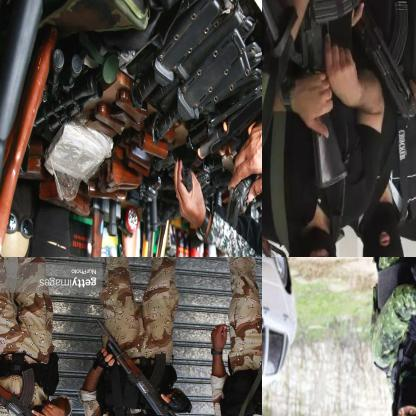knife: (129, 0, 230, 115), (152, 32, 242, 148), (184, 45, 261, 152), (197, 86, 261, 162)
rifle: (298, 0, 362, 189), (93, 318, 210, 415), (347, 0, 415, 125), (0, 344, 93, 415)
